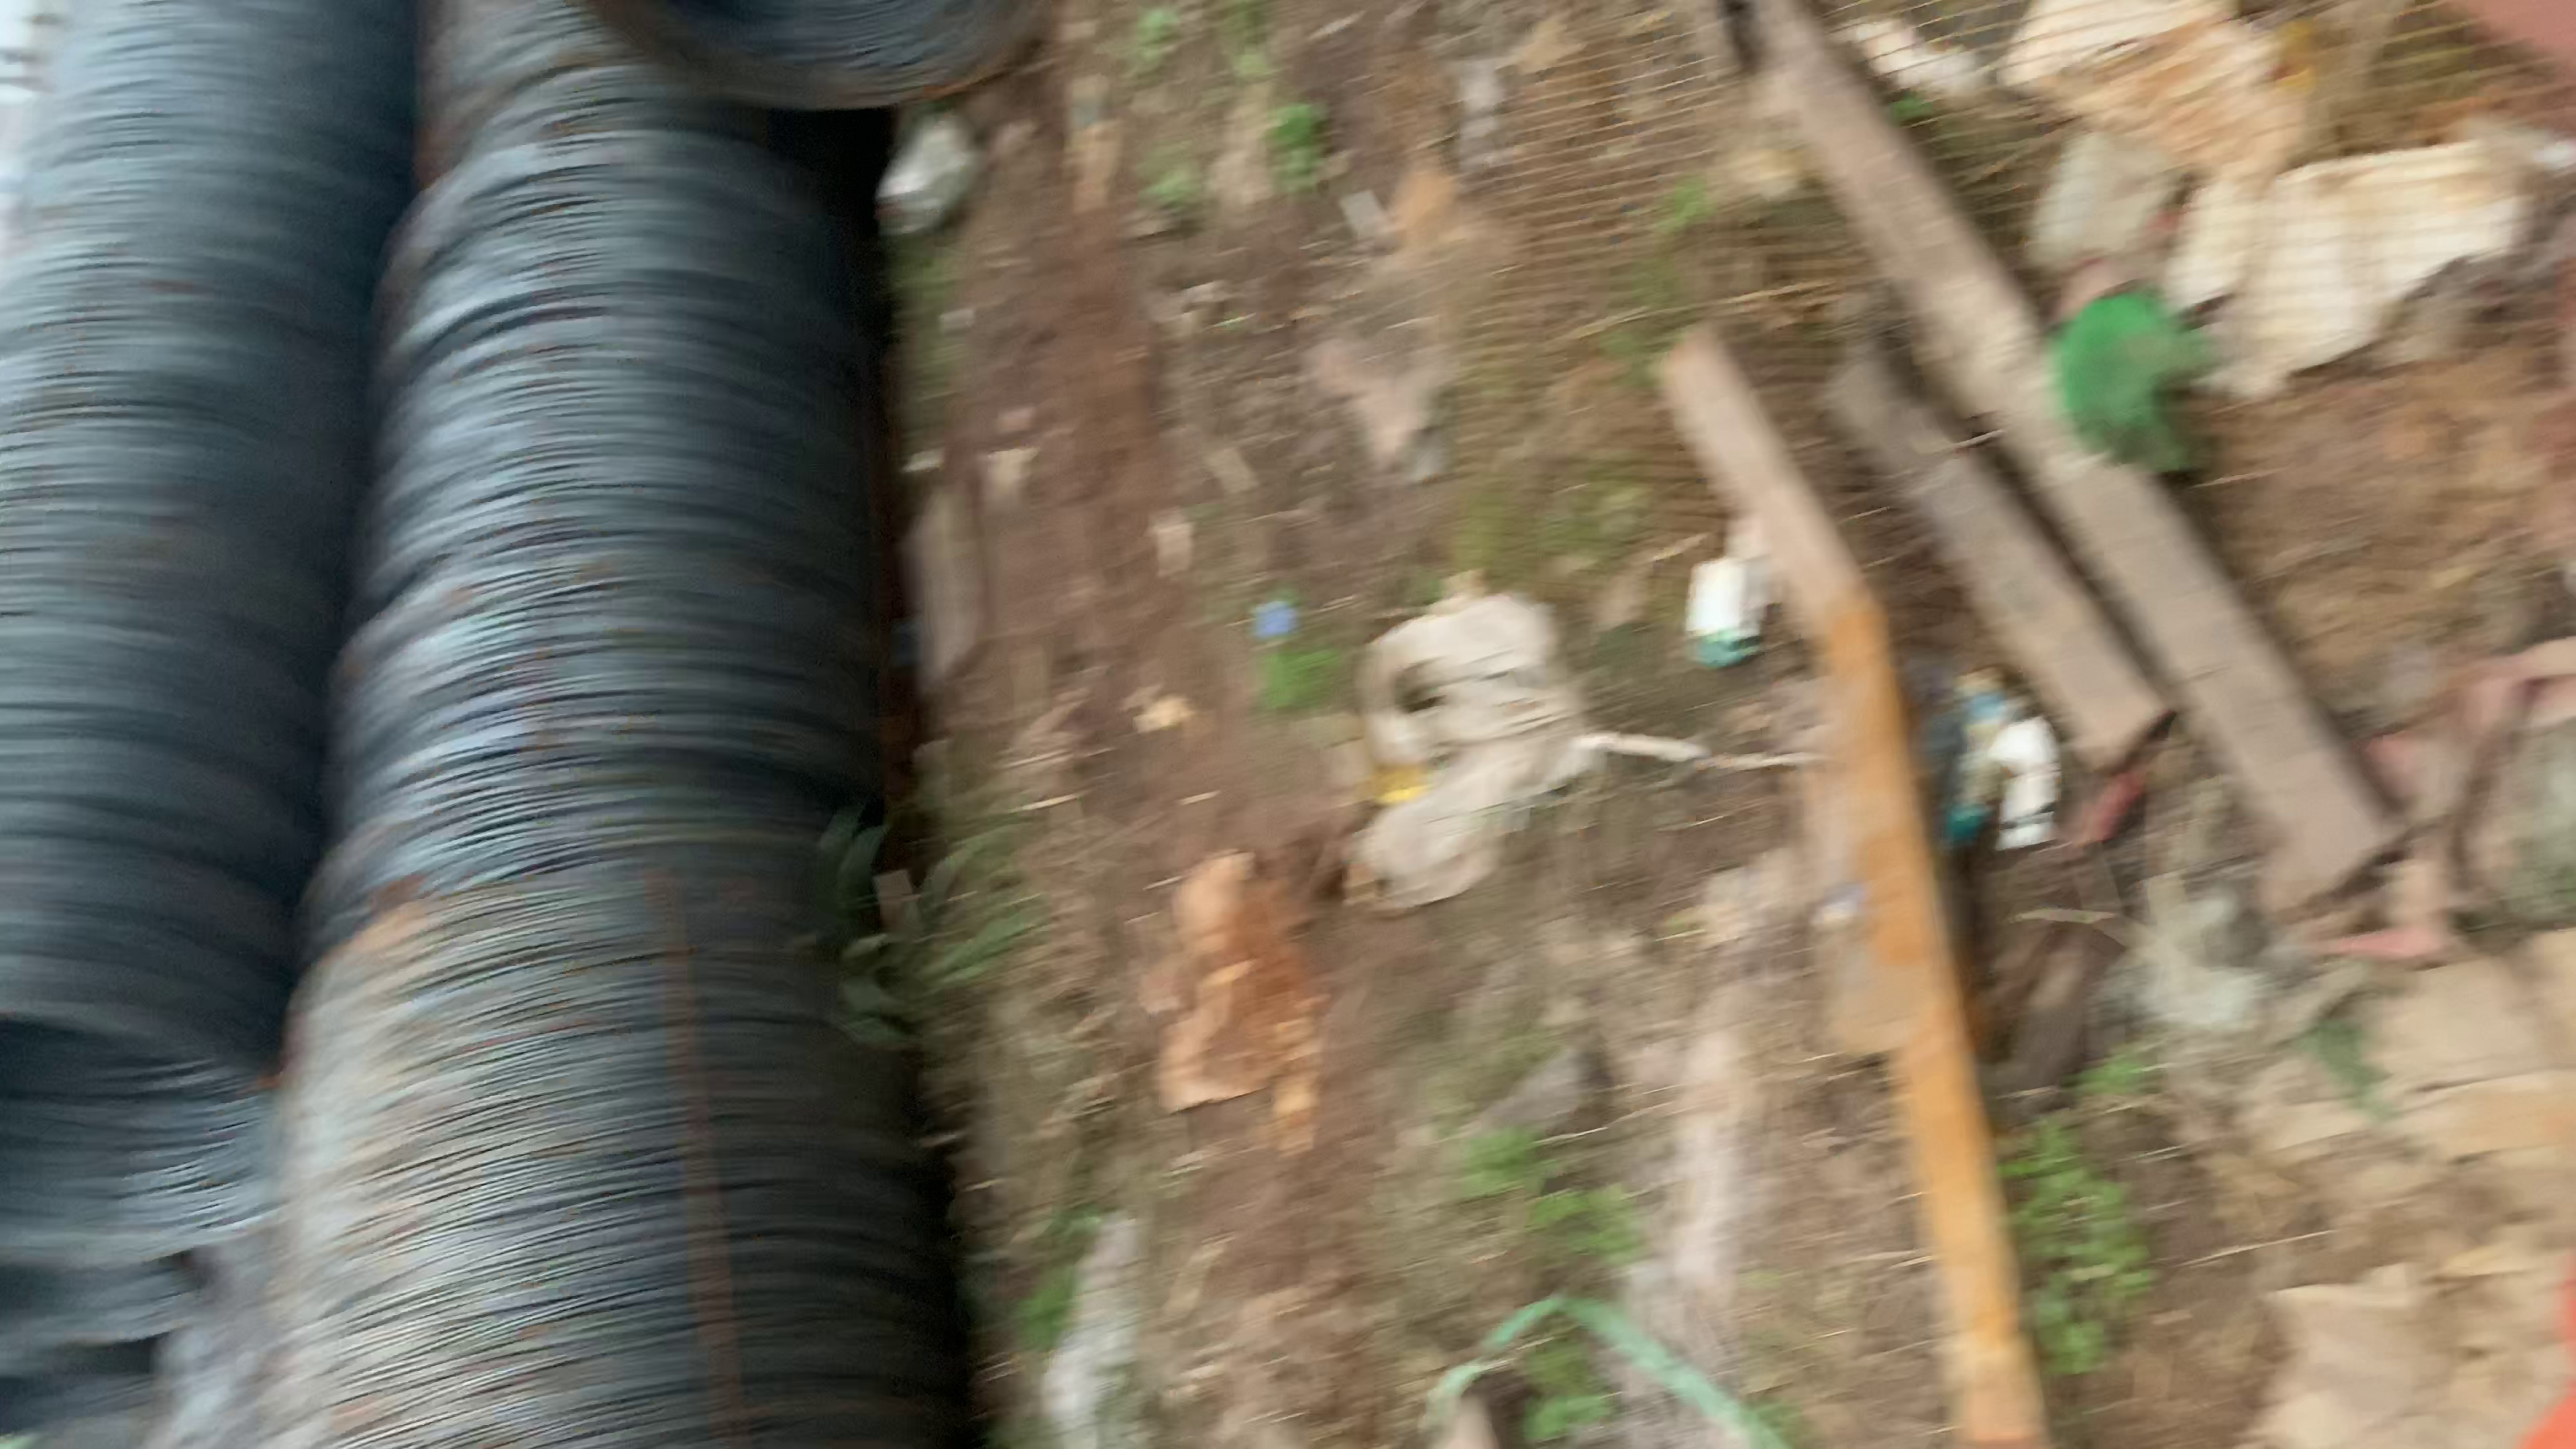coil: (318, 166, 968, 809), (0, 1017, 301, 1267), (658, 0, 1076, 149), (0, 1276, 244, 1412)
